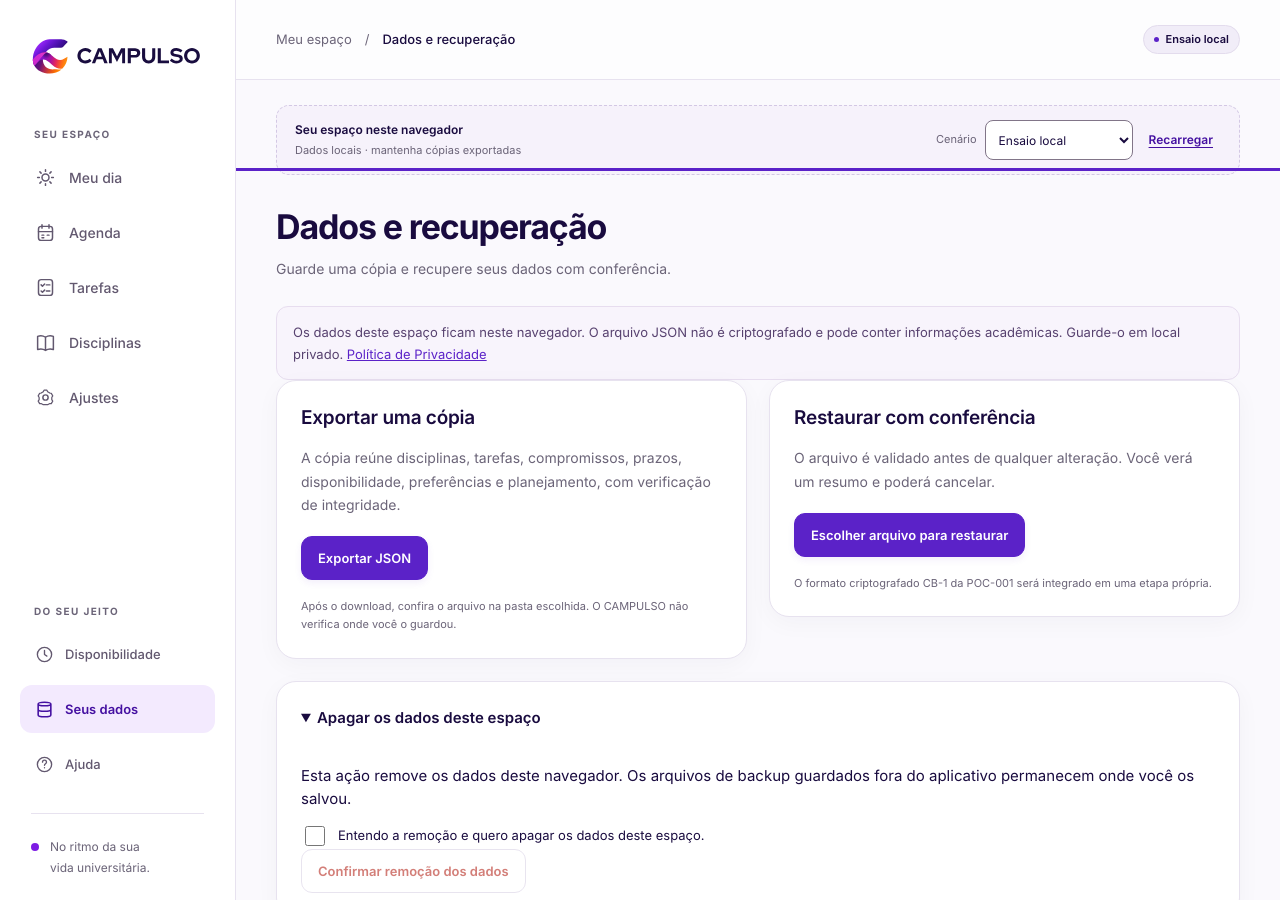
Test: Integração dos componentes React em DOM simulado (não é homologação de navegador) › remove filtro de disciplina obsoleto depois de apagar dados e exibe nova tarefa sem disciplina
Earlier steps of the test are not shown.
Click the checkbox labelled "Entendo a remoção e quero apagar os dados deste espaço.".
click(315, 836)  # box [305,826,325,846]
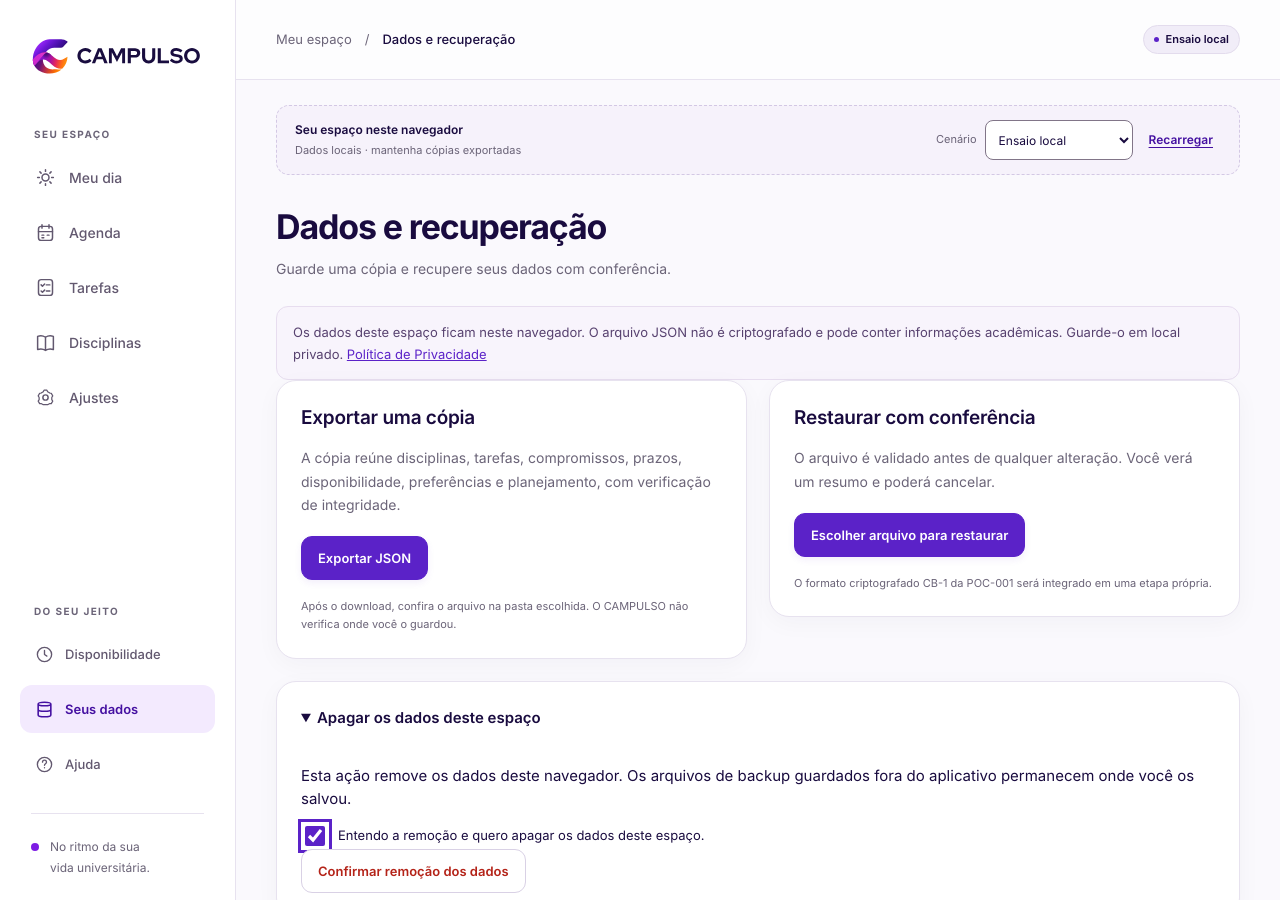
Click the button "Confirmar remoção dos dados".
click(413, 871)  # box [301,849,526,893]
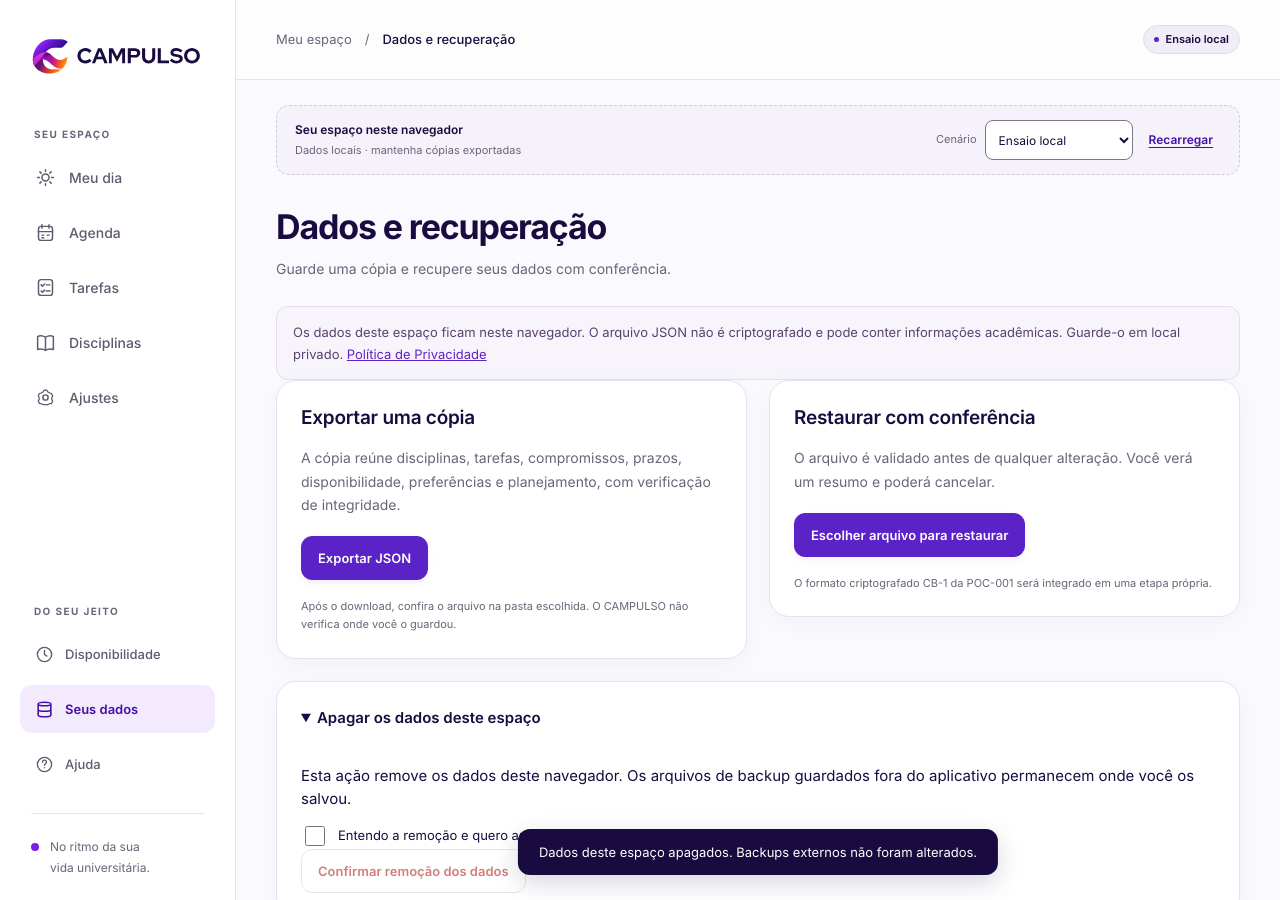
Click the button "Tarefas".
click(118, 288)  # box [20,264,215,312]
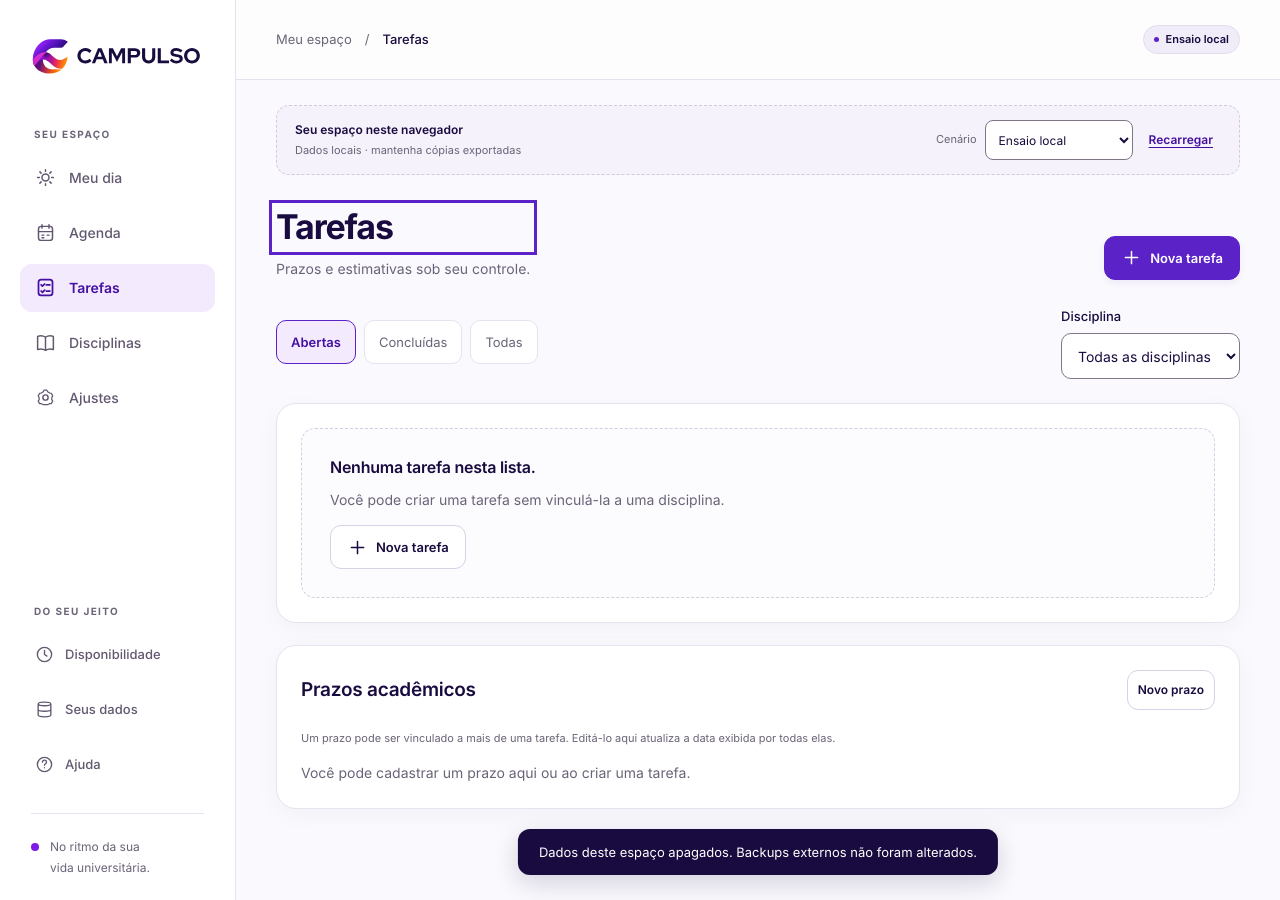
expect the dropdown labelled "Disciplina" shows "Todas as disciplinas": met, box [1061,333,1240,379]
Click the button "Nova tarefa" in the row of "Prazos e estimativas sob seu controle.".
click(1172, 258)  # box [1104,236,1240,280]
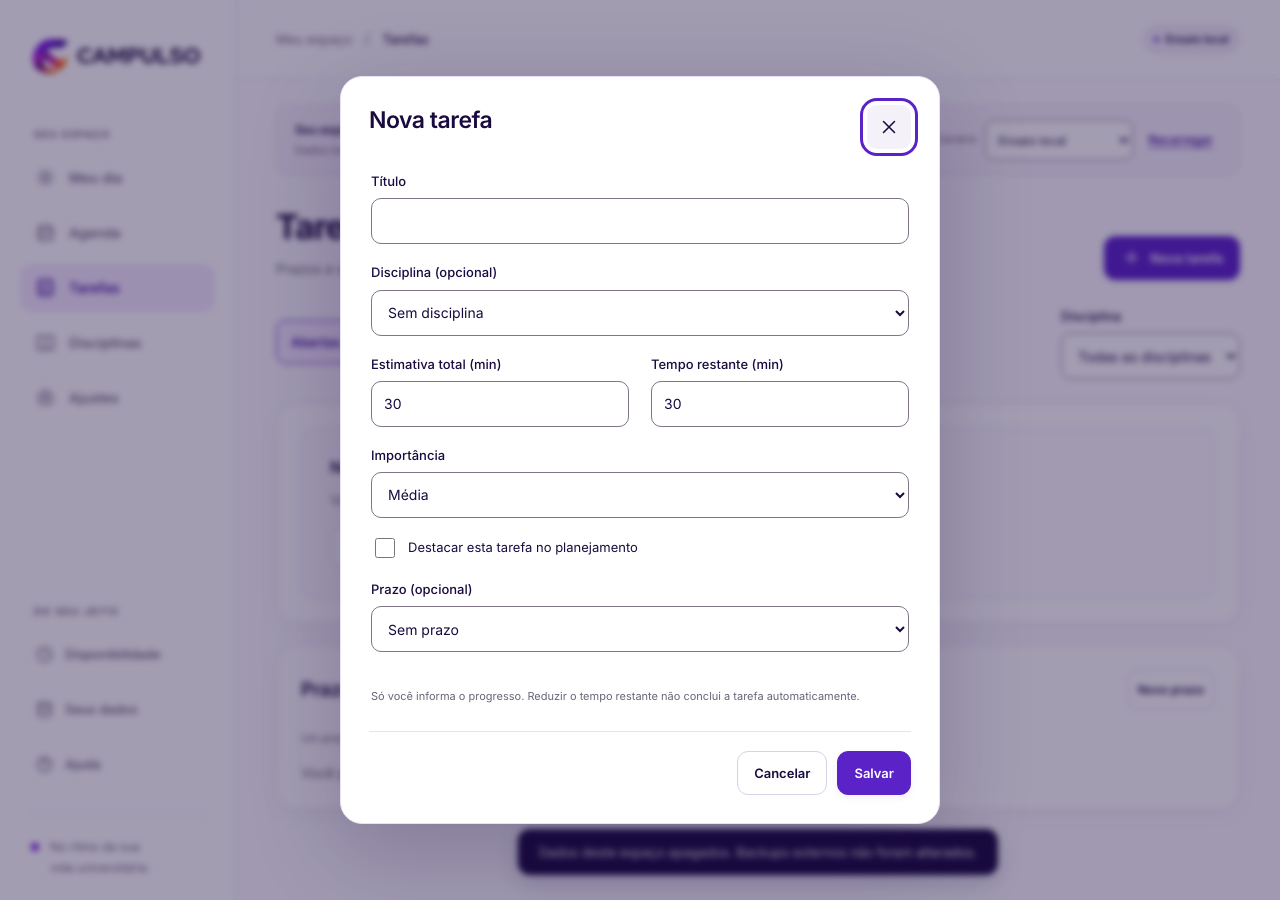
Type "Atividade sem disciplina" into the field labelled "Título".
click(640, 221); type("Atividade sem disciplina")  # box [371,198,909,244]
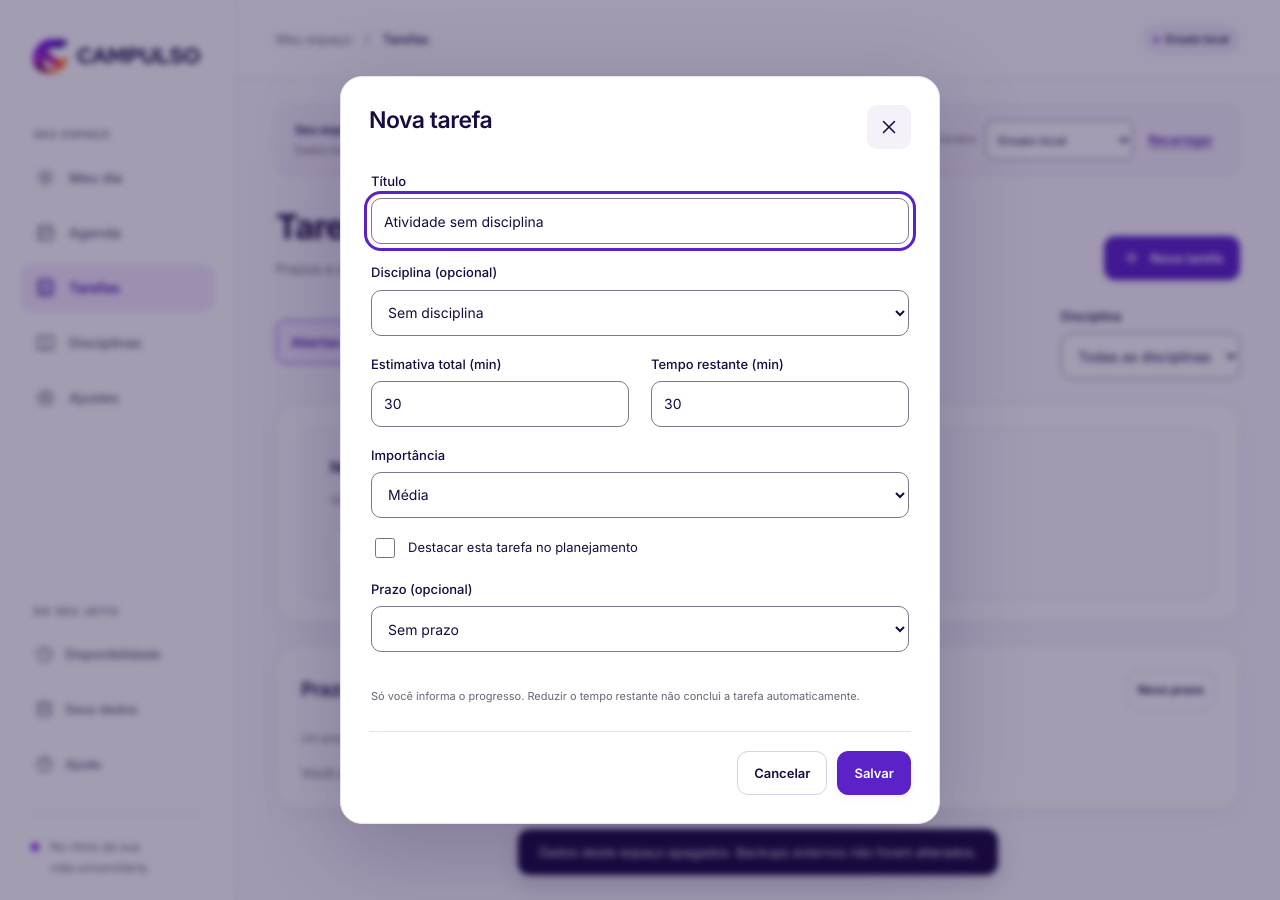
Click the button "Salvar".
click(874, 773)  # box [837,751,911,795]
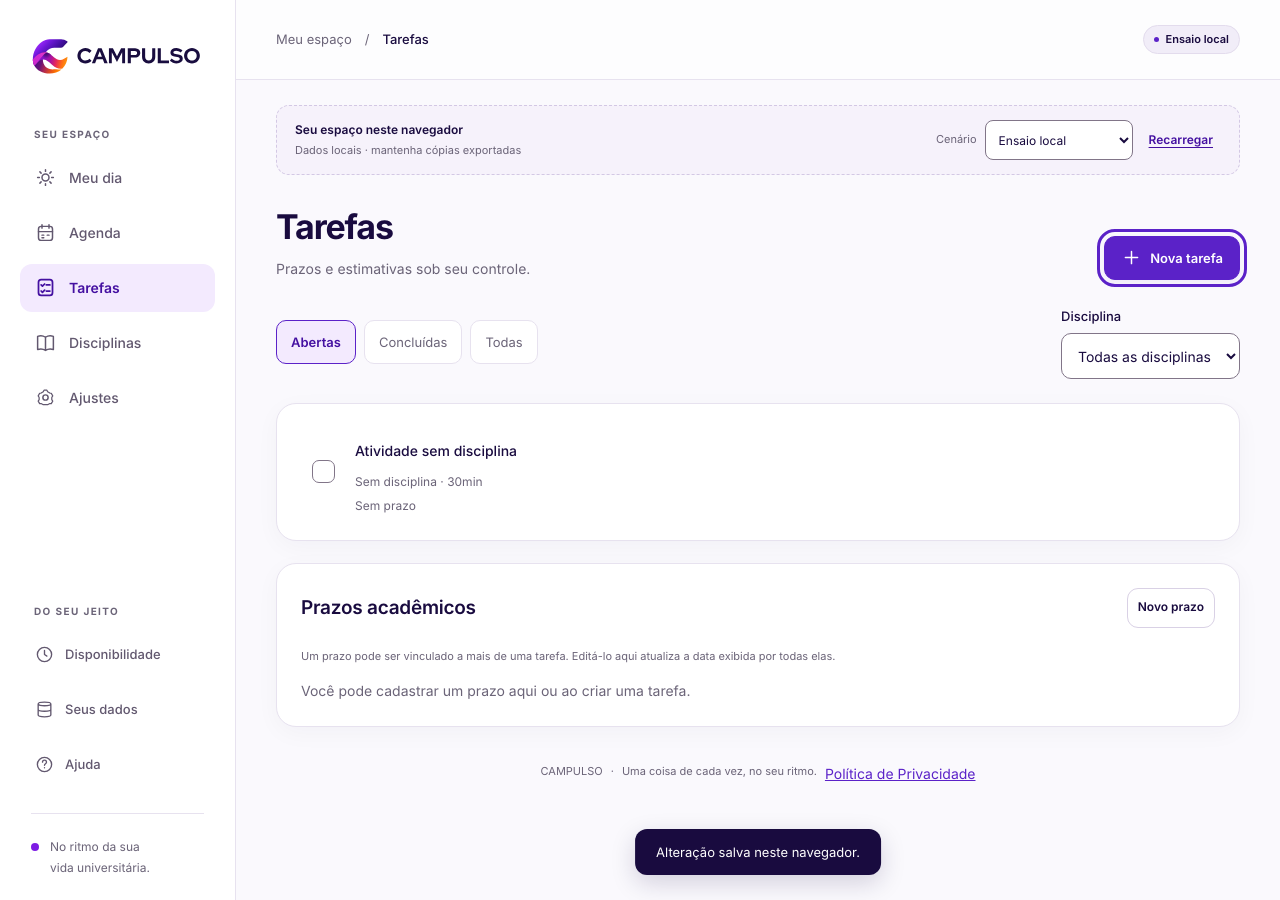
expect the dialog is gone: met
expect the button "Atividade sem disciplina" is shown: met, box [355,428,517,472]
